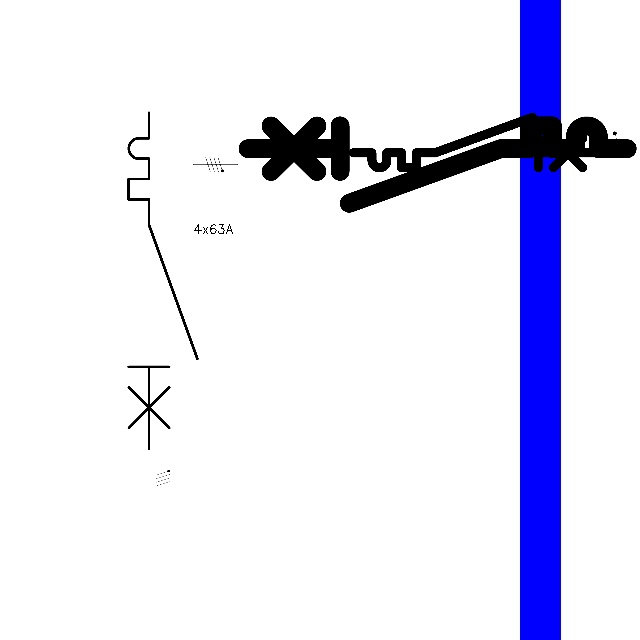interruptor_termomagnetico: (238, 116, 637, 213), (120, 104, 206, 457), (347, 111, 604, 174)
